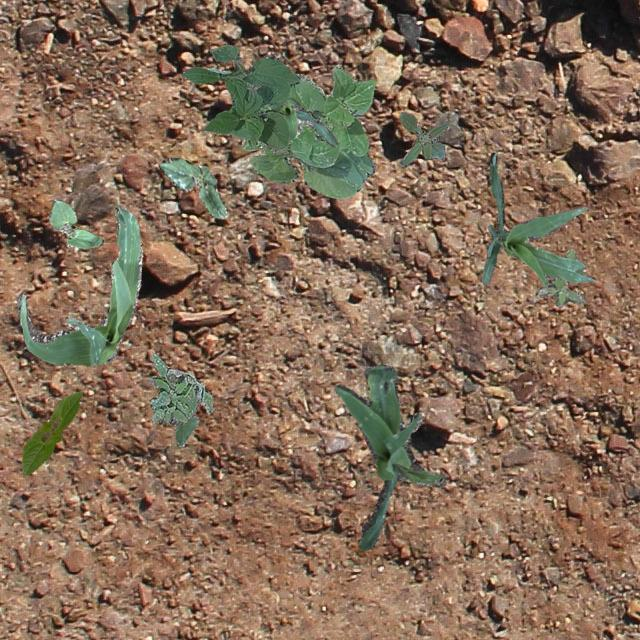crop: (334, 363, 446, 550), (15, 203, 142, 364), (240, 64, 374, 198), (480, 152, 594, 286), (180, 44, 298, 152), (208, 66, 336, 146), (20, 391, 81, 474), (158, 156, 226, 218), (48, 198, 102, 248), (148, 396, 198, 446)
weed: (148, 352, 212, 422), (536, 248, 584, 306), (398, 110, 446, 166)
